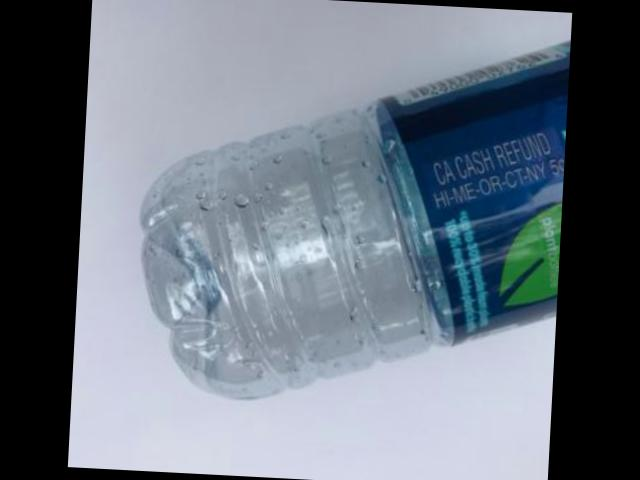plastic: (140, 42, 571, 399)
